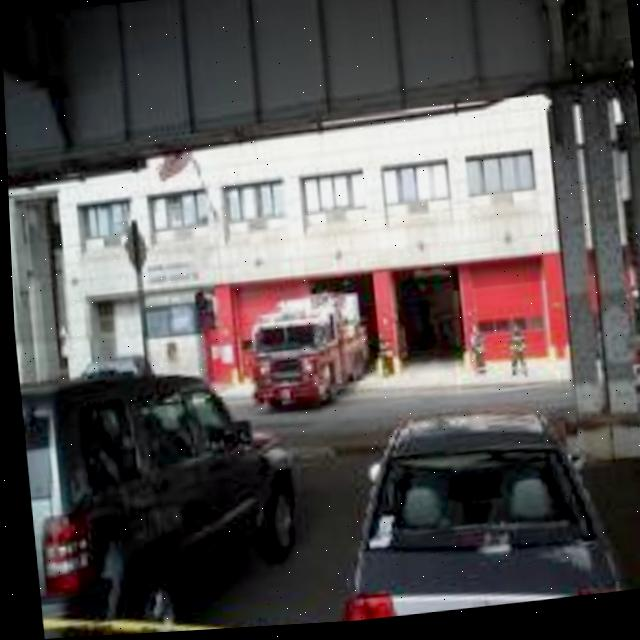emergency: (240, 300, 363, 416)
